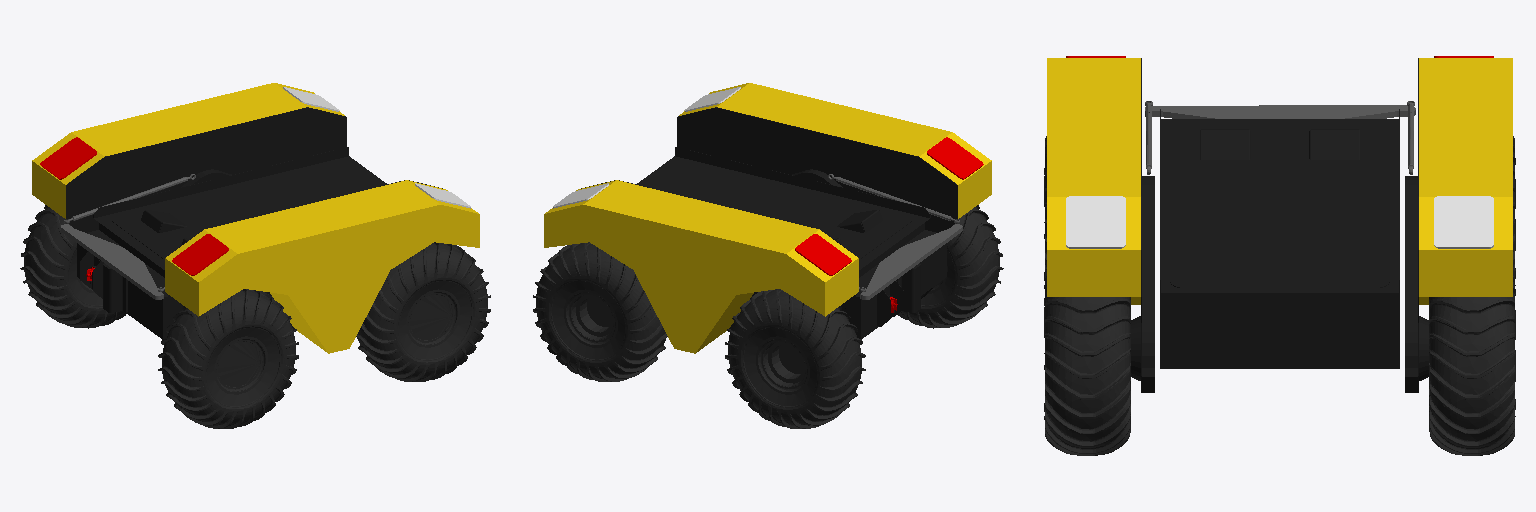
URDF robot description (warthog):
<?xml version="1.0" ?>
<!-- =================================================================================== -->
<!-- |    This document was autogenerated by xacro from warthog.urdf.xacro             | -->
<!-- |    EDITING THIS FILE BY HAND IS NOT RECOMMENDED                                 | -->
<!-- =================================================================================== -->
<robot name="warthog" xmlns:xacro="http://www.ros.org/wiki/xacro">
  <material name="dark_grey">
    <color rgba="0.2 0.2 0.2 1.0"/>
  </material>
  <material name="light_grey">
    <color rgba="0.4 0.4 0.4 1.0"/>
  </material>
  <material name="yellow">
    <color rgba="0.95 0.816 0.082 1.0"/>
  </material>
  <material name="black">
    <color rgba="0.15 0.15 0.15 1.0"/>
  </material>
  <material name="white">
    <color rgba="0.9 0.9 0.9 1.0"/>
  </material>
  <material name="red">
    <color rgba="0.9 0.0 0.0 1.0"/>
  </material>
  <link name="front_left_wheel_link">
    <inertial>
      <origin rpy="0 0 0" xyz="0 0 0"/>
      <mass value="15"/>
      <inertia ixx="0.415625" ixy="0" ixz="0" iyy="0.675" iyz="0" izz="0.415625"/>
    </inertial>
    <visual>
      <origin rpy="0 0 1.57079632679" xyz="0 0 0"/>
      <geometry>
        <mesh filename="package://platform_description/meshes/wheel.stl"/>
      </geometry>
      <material name="dark_grey"/>
    </visual>
    <collision>
      <origin rpy="1.57079632679 0 0" xyz="0 0 0"/>
      <geometry>
        <cylinder length="0.25" radius="0.3"/>
      </geometry>
    </collision>
  </link>
  <joint name="front_left_wheel_joint" type="continuous">
    <parent link="left_diff_unit_link"/>
    <child link="front_left_wheel_link"/>
    <origin rpy="0 0 0" xyz="0.457367 0.0 -0.012977"/>
    <axis xyz="0 1 0"/>
  </joint>
  <gazebo reference="front_left_wheel_link">
    <selfCollide>false</selfCollide>
    <mu1>0.5</mu1>
    <mu2>0.5</mu2>
    <kp value="10000000.0"/>
    <kd value="1.0"/>
    <fdir1 value="1 0 0"/>
    <material>Gazebo/Grey</material>
  </gazebo>
  <transmission name="front_left_wheel_trans">
    <type>transmission_interface/SimpleTransmission</type>
    <joint name="front_left_wheel_joint">
      <hardwareInterface>hardware_interface/VelocityJointInterface</hardwareInterface>
    </joint>
    <actuator name="front_left_actuator">
      <hardwareInterface>hardware_interface/VelocityJointInterface</hardwareInterface>
      <mechanicalReduction>1</mechanicalReduction>
    </actuator>
  </transmission>
  <link name="front_right_wheel_link">
    <inertial>
      <origin rpy="0 0 0" xyz="0 0 0"/>
      <mass value="15"/>
      <inertia ixx="0.415625" ixy="0" ixz="0" iyy="0.675" iyz="0" izz="0.415625"/>
    </inertial>
    <visual>
      <origin rpy="0 0 1.57079632679" xyz="0 0 0"/>
      <geometry>
        <mesh filename="package://platform_description/meshes/wheel.stl"/>
      </geometry>
      <material name="dark_grey"/>
    </visual>
    <collision>
      <origin rpy="1.57079632679 0 0" xyz="0 0 0"/>
      <geometry>
        <cylinder length="0.25" radius="0.3"/>
      </geometry>
    </collision>
  </link>
  <joint name="front_right_wheel_joint" type="continuous">
    <parent link="right_diff_unit_link"/>
    <child link="front_right_wheel_link"/>
    <origin rpy="0 0 0" xyz="0.457367 -0.0 -0.012977"/>
    <axis xyz="0 1 0"/>
  </joint>
  <gazebo reference="front_right_wheel_link">
    <selfCollide>false</selfCollide>
    <mu1>0.5</mu1>
    <mu2>0.5</mu2>
    <kp value="10000000.0"/>
    <kd value="1.0"/>
    <fdir1 value="1 0 0"/>
    <material>Gazebo/Grey</material>
  </gazebo>
  <transmission name="front_right_wheel_trans">
    <type>transmission_interface/SimpleTransmission</type>
    <joint name="front_right_wheel_joint">
      <hardwareInterface>hardware_interface/VelocityJointInterface</hardwareInterface>
    </joint>
    <actuator name="front_right_actuator">
      <hardwareInterface>hardware_interface/VelocityJointInterface</hardwareInterface>
      <mechanicalReduction>1</mechanicalReduction>
    </actuator>
  </transmission>
  <link name="rear_left_wheel_link">
    <inertial>
      <origin rpy="0 0 0" xyz="0 0 0"/>
      <mass value="15"/>
      <inertia ixx="0.415625" ixy="0" ixz="0" iyy="0.675" iyz="0" izz="0.415625"/>
    </inertial>
    <visual>
      <origin rpy="0 0 1.57079632679" xyz="0 0 0"/>
      <geometry>
        <mesh filename="package://platform_description/meshes/wheel.stl"/>
      </geometry>
      <material name="dark_grey"/>
    </visual>
    <collision>
      <origin rpy="1.57079632679 0 0" xyz="0 0 0"/>
      <geometry>
        <cylinder length="0.25" radius="0.3"/>
      </geometry>
    </collision>
  </link>
  <joint name="rear_left_wheel_joint" type="continuous">
    <parent link="left_diff_unit_link"/>
    <child link="rear_left_wheel_link"/>
    <origin rpy="0 0 0" xyz="-0.457367 0.0 -0.012977"/>
    <axis xyz="0 1 0"/>
  </joint>
  <gazebo reference="rear_left_wheel_link">
    <selfCollide>false</selfCollide>
    <mu1>0.5</mu1>
    <mu2>0.5</mu2>
    <kp value="10000000.0"/>
    <kd value="1.0"/>
    <fdir1 value="1 0 0"/>
    <material>Gazebo/Grey</material>
  </gazebo>
  <transmission name="rear_left_wheel_trans">
    <type>transmission_interface/SimpleTransmission</type>
    <joint name="rear_left_wheel_joint">
      <hardwareInterface>hardware_interface/VelocityJointInterface</hardwareInterface>
    </joint>
    <actuator name="rear_left_actuator">
      <hardwareInterface>hardware_interface/VelocityJointInterface</hardwareInterface>
      <mechanicalReduction>1</mechanicalReduction>
    </actuator>
  </transmission>
  <link name="rear_right_wheel_link">
    <inertial>
      <origin rpy="0 0 0" xyz="0 0 0"/>
      <mass value="15"/>
      <inertia ixx="0.415625" ixy="0" ixz="0" iyy="0.675" iyz="0" izz="0.415625"/>
    </inertial>
    <visual>
      <origin rpy="0 0 1.57079632679" xyz="0 0 0"/>
      <geometry>
        <mesh filename="package://platform_description/meshes/wheel.stl"/>
      </geometry>
      <material name="dark_grey"/>
    </visual>
    <collision>
      <origin rpy="1.57079632679 0 0" xyz="0 0 0"/>
      <geometry>
        <cylinder length="0.25" radius="0.3"/>
      </geometry>
    </collision>
  </link>
  <joint name="rear_right_wheel_joint" type="continuous">
    <parent link="right_diff_unit_link"/>
    <child link="rear_right_wheel_link"/>
    <origin rpy="0 0 0" xyz="-0.457367 -0.0 -0.012977"/>
    <axis xyz="0 1 0"/>
  </joint>
  <gazebo reference="rear_right_wheel_link">
    <selfCollide>false</selfCollide>
    <mu1>0.5</mu1>
    <mu2>0.5</mu2>
    <kp value="10000000.0"/>
    <kd value="1.0"/>
    <fdir1 value="1 0 0"/>
    <material>Gazebo/Grey</material>
  </gazebo>
  <transmission name="rear_right_wheel_trans">
    <type>transmission_interface/SimpleTransmission</type>
    <joint name="rear_right_wheel_joint">
      <hardwareInterface>hardware_interface/VelocityJointInterface</hardwareInterface>
    </joint>
    <actuator name="rear_right_actuator">
      <hardwareInterface>hardware_interface/VelocityJointInterface</hardwareInterface>
      <mechanicalReduction>1</mechanicalReduction>
    </actuator>
  </transmission>
  <link name="left_diff_unit_link">
    <inertial>
      <origin rpy="0 0 0" xyz="0 -0.05 0.197"/>
      <mass value="50"/>
      <inertia ixx="1.98041666667" ixy="0" ixz="0" iyy="9.13541666667" iyz="0" izz="9.13541666667"/>
    </inertial>
    <visual>
      <origin rpy="0 0 1.57079632679" xyz="0 0 0"/>
      <geometry>
        <mesh filename="package://platform_description/meshes/rocker.stl"/>
      </geometry>
      <material name="black">
        <color rgba="0.15 0.15 0.15 1.0"/>
      </material>
    </visual>
    <visual>
      <origin rpy="0 0 1.57079632679" xyz="0 0 0"/>
      <geometry>
        <mesh filename="package://platform_description/meshes/fenders.stl"/>
      </geometry>
      <material name="yellow">
        <color rgba="0.95 0.816 0.082 1.0"/>
      </material>
    </visual>
    <visual>
      <origin rpy="0 0 0" xyz="0 -0.0244 0"/>
      <geometry>
        <mesh filename="package://platform_description/meshes/light.stl"/>
      </geometry>
      <material name="white">
        <color rgba="0.9 0.9 0.9 1.0"/>
      </material>
    </visual>
    <visual>
      <origin rpy="0 0 3.14159265359" xyz="0 -0.0244 0"/>
      <geometry>
        <mesh filename="package://platform_description/meshes/light.stl"/>
      </geometry>
      <material name="red">
        <color rgba="0.9 0.0 0.0 1.0"/>
      </material>
    </visual>
    <collision>
      <origin rpy="0 0 1.57079632679" xyz="0 0 0"/>
      <geometry>
        <mesh filename="package://platform_description/meshes/fenders.stl"/>
      </geometry>
    </collision>
  </link>
  <joint name="left_diff_unit_joint" type="revolute">
    <limit effort="100" lower="-0.4" upper="0.4" velocity="1"/>
    <parent link="chassis_link"/>
    <child link="left_diff_unit_link"/>
    <origin rpy="0 0 0" xyz="0.0 0.56821 0.0"/>
    <axis xyz="0 1 0"/>
    <dynamics damping="100" friction="0.5"/>
  </joint>
  <gazebo reference="left_diff_unit_link">
    <selfCollide>false</selfCollide>
    <material>Gazebo/Yellow</material>
  </gazebo>
  <link name="right_diff_unit_link">
    <inertial>
      <origin rpy="0 0 0" xyz="0 0.05 0.197"/>
      <mass value="50"/>
      <inertia ixx="1.98041666667" ixy="0" ixz="0" iyy="9.13541666667" iyz="0" izz="9.13541666667"/>
    </inertial>
    <visual>
      <origin rpy="0 0 -1.57079632679" xyz="0 0 0"/>
      <geometry>
        <mesh filename="package://platform_description/meshes/rocker.stl"/>
      </geometry>
      <material name="black">
        <color rgba="0.15 0.15 0.15 1.0"/>
      </material>
    </visual>
    <visual>
      <origin rpy="0 0 -1.57079632679" xyz="0 0 0"/>
      <geometry>
        <mesh filename="package://platform_description/meshes/fenders.stl"/>
      </geometry>
      <material name="yellow">
        <color rgba="0.95 0.816 0.082 1.0"/>
      </material>
    </visual>
    <visual>
      <origin rpy="0 0 0" xyz="0 0.0244 0"/>
      <geometry>
        <mesh filename="package://platform_description/meshes/light.stl"/>
      </geometry>
      <material name="white">
        <color rgba="0.9 0.9 0.9 1.0"/>
      </material>
    </visual>
    <visual>
      <origin rpy="0 0 -3.14159265359" xyz="0 0.0244 0"/>
      <geometry>
        <mesh filename="package://platform_description/meshes/light.stl"/>
      </geometry>
      <material name="red">
        <color rgba="0.9 0.0 0.0 1.0"/>
      </material>
    </visual>
    <collision>
      <origin rpy="0 0 -1.57079632679" xyz="0 0 0"/>
      <geometry>
        <mesh filename="package://platform_description/meshes/fenders.stl"/>
      </geometry>
    </collision>
  </link>
  <joint name="right_diff_unit_joint" type="revolute">
    <limit effort="100" lower="-0.4" upper="0.4" velocity="1"/>
    <parent link="chassis_link"/>
    <child link="right_diff_unit_link"/>
    <origin rpy="0 0 0" xyz="0.0 -0.56821 0.0"/>
    <axis xyz="0 1 0"/>
    <dynamics damping="100" friction="0.5"/>
  </joint>
  <gazebo reference="right_diff_unit_link">
    <selfCollide>false</selfCollide>
    <material>Gazebo/Yellow</material>
  </gazebo>
  <link name="base_link"/>
  <joint name="base_link_joint" type="fixed">
    <origin rpy="0 0 0" xyz="0 0 0.025"/>
    <parent link="base_link"/>
    <child link="chassis_link"/>
  </joint>
  <link name="chassis_link">
    <inertial>
      <origin rpy="0 0 0" xyz="0 0 0"/>
      <mass value="100"/>
      <inertia ixx="4.83333333333" ixy="0" ixz="0" iyy="15.9375" iyz="0" izz="15.9375"/>
    </inertial>
    <visual>
      <origin rpy="0 0 0" xyz="0 0 0"/>
      <geometry>
        <mesh filename="package://platform_description/meshes/chassis.stl"/>
      </geometry>
      <material name="black">
        <color rgba="0.15 0.15 0.15 1.0"/>
      </material>
    </visual>
    <visual>
      <origin rpy="0 0 0" xyz="0 0 0"/>
      <geometry>
        <mesh filename="package://platform_description/meshes/e-stop.stl"/>
      </geometry>
      <material name="red">
        <color rgba="0.9 0.0 0.0 1.0"/>
      </material>
    </visual>
    <collision>
      <origin rpy="0 0 0" xyz="0 0 0"/>
      <geometry>
        <mesh filename="package://platform_description/meshes/chassis-collision.stl"/>
      </geometry>
    </collision>
  </link>
  <link name="top_chassis_link"/>
  <joint name="top_link_joint" type="fixed">
    <origin rpy="0 0 0" xyz="0 0 0.27218"/>
    <parent link="chassis_link"/>
    <child link="top_chassis_link"/>
  </joint>
  <!-- This link is purely to complete the visual look -->
  <link name="diff_link">
    <visual>
      <origin rpy="0 0 0" xyz="0 0 0"/>
      <geometry>
        <mesh filename="package://platform_description/meshes/diff-link.stl"/>
      </geometry>
      <material name="light_grey"/>
    </visual>
    <visual>
      <origin rpy="0 0 0" xyz="0 0 0"/>
      <geometry>
        <mesh filename="package://platform_description/meshes/susp-link.stl"/>
      </geometry>
      <material name="light_grey"/>
    </visual>
    <visual>
      <origin rpy="0 0 0" xyz="0 0 0"/>
      <geometry>
        <mesh filename="package://platform_description/meshes/susp-link.stl"/>
      </geometry>
      <material name="light_grey"/>
    </visual>
  </link>
  <joint name="diff_link_joint" type="fixed">
    <parent link="chassis_link"/>
    <child link="diff_link"/>
    <origin rpy="0 0 0" xyz="-0.5826 0 0.24979"/>
  </joint>
  <!-- Sensor Frame. -->
  <link name="imu_link"/>
  <joint name="imu_link_joint" type="fixed">
    <parent link="top_chassis_link"/>
    <child link="imu_link"/>
    <origin rpy="0 3.1415926 -3.1415926" xyz="-0.26 0 0.445"/>
  </joint>
  <link name="velodyne"/>
  <joint name="imu_to_velodyne" type="fixed">
    <parent link="imu_link"/>
    <child link="velodyne"/>
    <origin rpy="0 3.1415926 -3.1415926" xyz="0.6 0 0"/>
  </joint>
  <link name="os1_frame"/>
  <joint name="os1_to_imu" type="fixed">
    <parent link="imu_link"/>
    <child link="os1_frame"/>
    <origin rpy="0 3.1415926 0" xyz="0.45 0 -0.07"/>
  </joint>
  <link name="ouster1/os1_sensor"/>
  <joint name="os1_sensor_to_os1_frame" type="fixed">
    <parent link="os1_frame"/>
    <child link="ouster1/os1_sensor"/>
    <origin rpy="0 0 -3.1415926" xyz="0 0 0"/>
  </joint>
  <link name="ouster1/os1_lidar"/>
  <joint name="os1_lidar_to_os1_sensor" type="fixed">
    <parent link="ouster1/os1_sensor"/>
    <child link="ouster1/os1_lidar"/>
    <origin rpy="0 0 -3.1415927" xyz="0 0 0.03618"/>
  </joint>
  <link name="ouster1/os1_imu"/>
  <joint name="os1_imu_to_os1_sensor" type="fixed">
    <parent link="ouster1/os1_sensor"/>
    <child link="ouster1/os1_imu"/>
    <origin rpy="0 0 0" xyz="0.006253 -0.011775 0.007645"/>
  </joint>
  <!-- Bring in simulation data for Gazebo. -->
  <!--xacro:include filename="$(find platform_description)/urdf/warthog.gazebo" /-->
  <!-- Optional standard accessories, including their simulation data. The rendering
       of these into the final description is controlled by optenv variables, which
       default each one to off.-->
  <!--xacro:include filename="$(find platform_description)/urdf/accessories.urdf.xacro" /-->
  <!-- Optional custom includes. -->
  <!--xacro:include filename="$(optenv WARTHOG_URDF_EXTRAS empty.urdf)" /-->
</robot>

--- Render facts (derived) ---
The picture shows the robot from 3 angles, left to right: view 1: azimuth 30°, elevation 25°; view 2: azimuth 150°, elevation 25°; view 3: azimuth 270°, elevation 25°; orthographic projection.
Robot: warthog — 16 links, 15 joints (2 revolute, 4 continuous, 9 fixed); root link base_link; default pose: every joint at zero.
Visible links, largest first — view 1: right_diff_unit_link, left_diff_unit_link, chassis_link, rear_right_wheel_link, front_right_wheel_link, rear_left_wheel_link, diff_link; view 2: left_diff_unit_link, right_diff_unit_link, chassis_link, rear_left_wheel_link, front_left_wheel_link, rear_right_wheel_link, diff_link; view 3: chassis_link, left_diff_unit_link, right_diff_unit_link, front_left_wheel_link, front_right_wheel_link, diff_link.
Link boxes in pixels (box(x1,y1,x2,y2)): right_diff_unit_link: box(165, 180, 479, 353); left_diff_unit_link: box(32, 83, 346, 298); chassis_link: box(77, 147, 386, 339); rear_right_wheel_link: box(158, 289, 298, 428); front_right_wheel_link: box(356, 242, 490, 381); rear_left_wheel_link: box(20, 205, 126, 328); diff_link: box(61, 174, 195, 299); left_diff_unit_link: box(544, 180, 858, 353); right_diff_unit_link: box(677, 83, 991, 298); chassis_link: box(637, 147, 946, 339); rear_left_wheel_link: box(725, 289, 865, 428); front_left_wheel_link: box(533, 242, 667, 381); rear_right_wheel_link: box(898, 205, 1003, 328); diff_link: box(828, 174, 962, 299); chassis_link: box(1160, 109, 1399, 368); left_diff_unit_link: box(1405, 56, 1512, 392); right_diff_unit_link: box(1047, 56, 1154, 392); front_left_wheel_link: box(1429, 267, 1515, 455); front_right_wheel_link: box(1044, 267, 1130, 455); diff_link: box(1145, 101, 1415, 174).
Size in the robot's own frame: 1.52 by 1.39 by 0.8297 metres.
17 mesh visuals loaded from 8 distinct referenced files (8 binary STL).